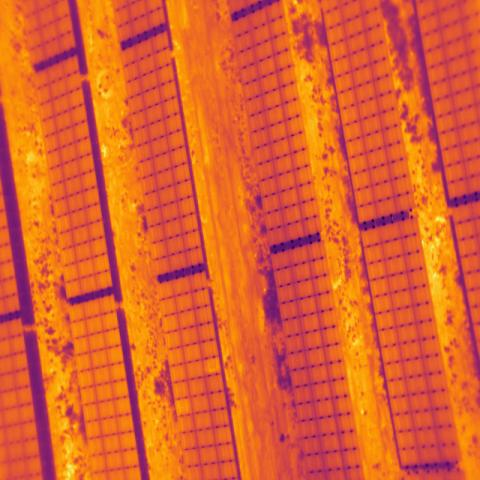fault: (204, 356, 222, 376), (175, 400, 192, 416)
